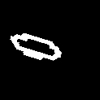chain: (10, 34, 60, 59)
